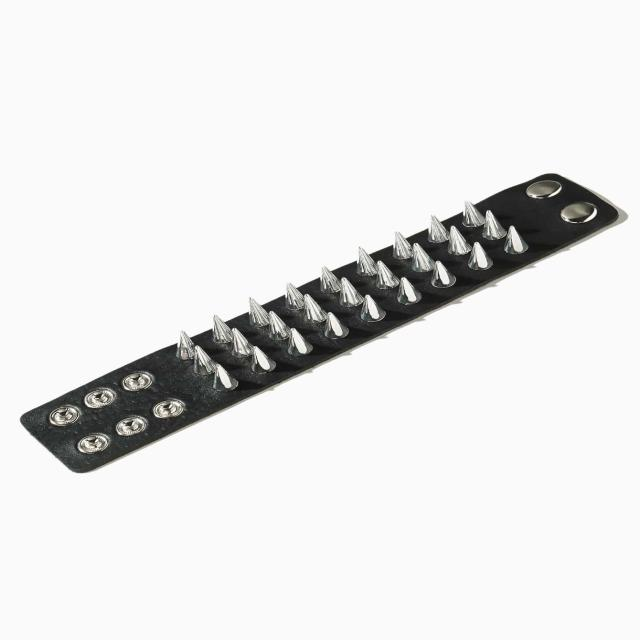bracelet: (29, 62, 640, 532)
